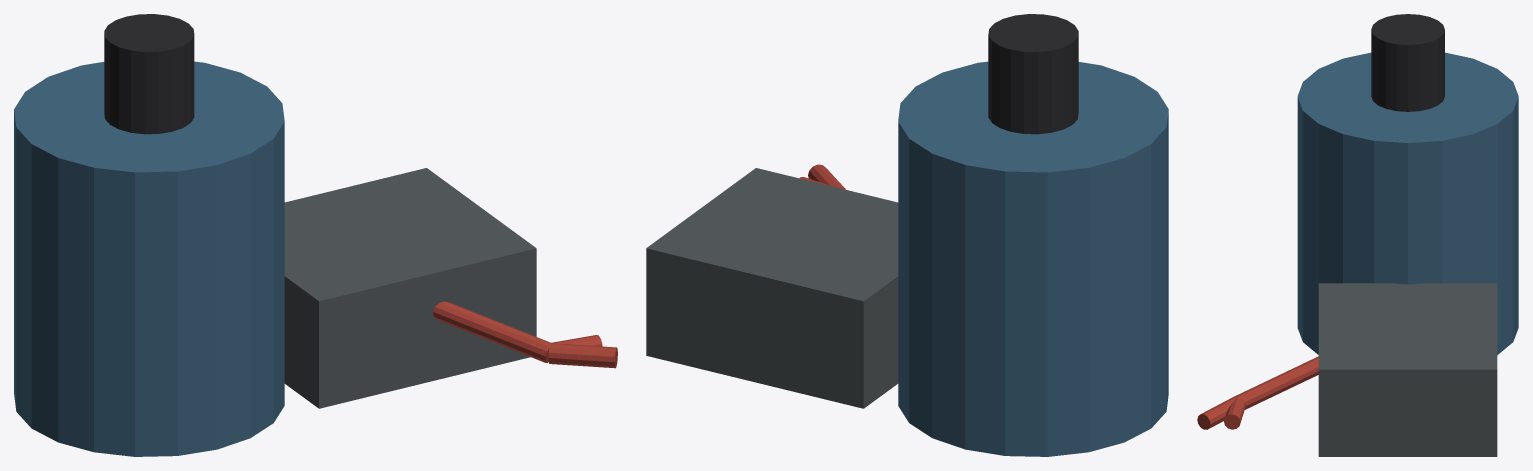
File: KIT_EMOD_Ignition.glb
The picture shows the model from 3 angles, left to right: view 1: azimuth 30°, elevation 25°; view 2: azimuth 150°, elevation 25°; view 3: azimuth 270°, elevation 25°; orthographic projection. The views are drawn at different scales.
Visible parts, largest first — view 1: Coil, Module, Tower, Leads; view 2: Coil, Module, Tower; view 3: Coil, Module, Tower, Leads.
Part boxes in pixels (x1,y1,x2,y2): Coil: (14, 61, 284, 456); Module: (284, 168, 536, 408); Tower: (104, 14, 194, 134); Leads: (433, 301, 617, 368); Coil: (898, 61, 1168, 456); Module: (646, 168, 898, 408); Tower: (988, 14, 1078, 134); Coil: (1297, 52, 1518, 354); Module: (1318, 283, 1497, 456); Tower: (1371, 14, 1444, 111); Leads: (1197, 356, 1318, 429).
Bounding box in the file's own units: 0.1539 × 0.116 × 0.1133.
